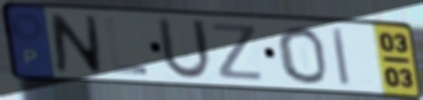I: (330, 25, 353, 89)
L: (103, 16, 151, 76)
N: (48, 12, 105, 77)
O: (274, 25, 331, 86)
U: (154, 14, 215, 83)
Z: (209, 21, 266, 83)
